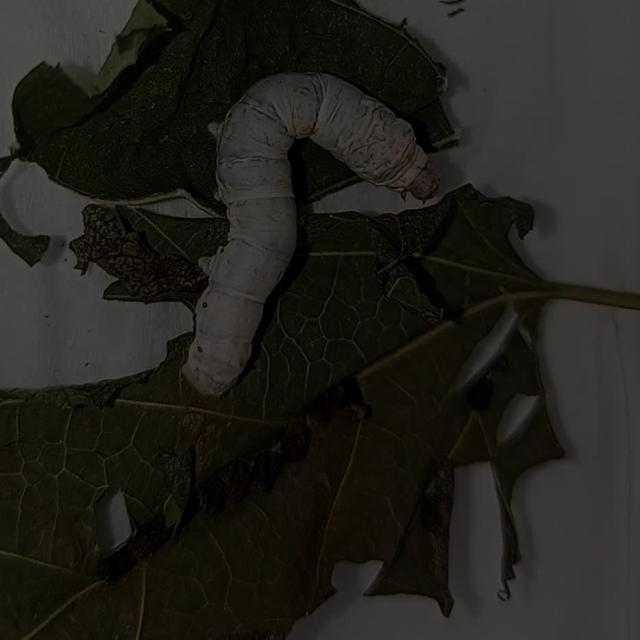Healthy: (154, 51, 454, 431)
